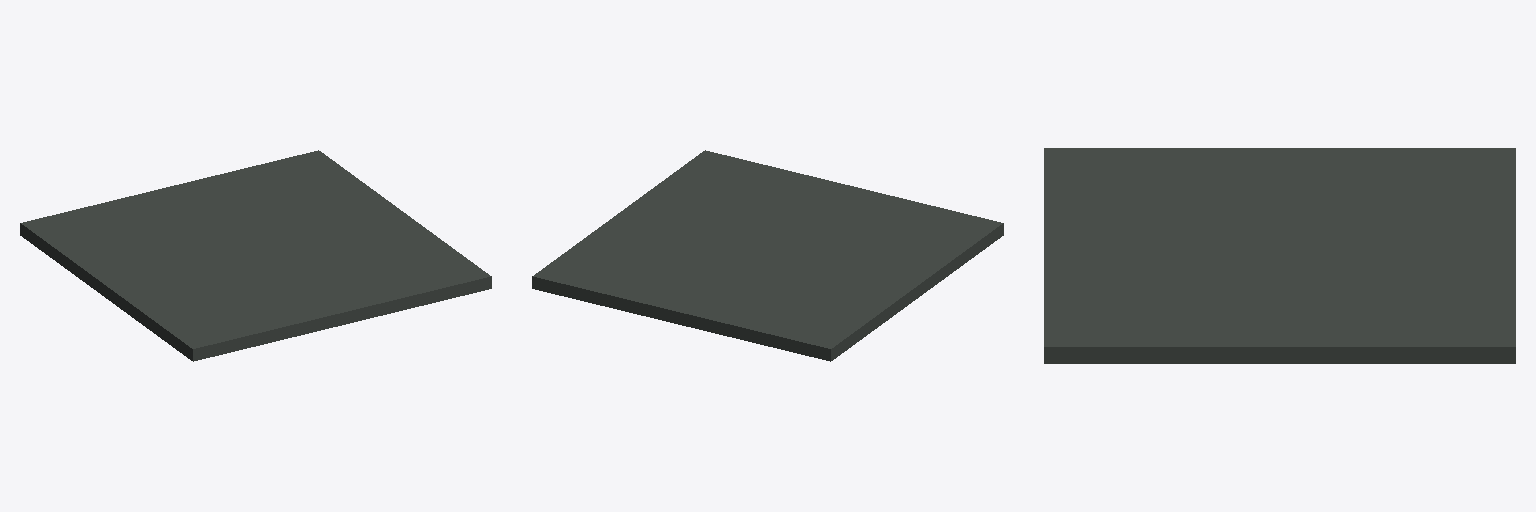
robot.urdf — ground_skeleton:
<?xml version="1.0"?>
<robot name="ground_skeleton">
    <material name="blue">
        <color rgba="0 0 0.8 1"/>
    </material>
    <material name="white">
        <color rgba="1 1 1 1"/>
    </material>
    <material name="greygreen">
        <color rgba="0.324 0.346 0.330 1"/>
    </material>
    <link name="world" />
    <link name="world_frame">
        <inertial>
            <mass value="0.000000001" />
            <origin xyz="0 0 0" rpy="0 0 0" />
            <inertia ixx="0.000000001" ixy="0.000000001" ixz="0.000000001" iyy="1.0" iyz="0" izz="1.0" />
        </inertial>
    </link>
    <link name="ground">
         <collision>
            <origin xyz= "0 0 0" rpy="0. 0 0" />
            <geometry>
                <box size="2.5 2.5 0.1" />
            </geometry>
        </collision>
         <visual name="visual">
            <origin xyz = "0 0 0" rpy="0. 0 0" />
            <geometry>
                <box size="2.5 2.5 0.1" />
            </geometry>
            <material name="greygreen"/>
        </visual>
        <inertial>
            <mass value="1.0" />
            <origin xyz="0 0 0" rpy="0 0 0" />
            <inertia ixx="1.0" ixy="0" ixz="0" iyy="1.0" iyz="0" izz="1.0" />
        </inertial>
    </link>
    <link name="ground_link">
         <collision>
            <origin xyz= "-0.0 -0.0 -0.9" rpy="0. -0.00 -0.5236" />
            <geometry>
        	    <mesh filename="meshes/hexa_column3.obj"/>
      	    </geometry>
        </collision>
         <visual name="visual">
            <origin xyz = "-0.0 -0.0 -0.9" rpy="0. -0.00  -0.5236" />
            <geometry>
        	    <mesh filename="meshes/hexa_column3.obj"/>
            </geometry>
        </visual>
        <inertial>
            <mass value="1.0" />
            <origin xyz="0 0 0" rpy="0 0 0" />
            <inertia ixx="1.0" ixy="0" ixz="0" iyy="1.0" iyz="0" izz="1.0" />
        </inertial>
    </link>
    <joint name="ground_joint" type="fixed">
        <origin xyz="-0.33 0.0 0.0" rpy="0. 0. 0." />
        <parent link="world" />
        <child link="ground_link" />
    </joint>
    <joint name="frame_joint" type="fixed">
        <origin xyz="0 0 0" rpy="0 0 0" />
        <parent link="world" />
        <child link="world_frame" />
    </joint>
    <joint name="ground_flat_joint" type="fixed">
        <origin xyz="0.0 0.0 0.0" rpy="0 0.0 0.0" />
        <parent link="world" />
        <child link="ground" />
    </joint>
</robot>

--- Render facts (derived) ---
The picture shows the robot from 3 angles, left to right: view 1: azimuth 30°, elevation 25°; view 2: azimuth 150°, elevation 25°; view 3: azimuth 270°, elevation 25°; orthographic projection.
Robot: ground_skeleton — 4 links, 3 joints (3 fixed); root link world; default pose: every joint at zero.
Links seen in each view (by area): view 1: ground; view 2: ground; view 3: ground.
Boxes of the visible links, bbox=[...] form: ground: bbox=[20, 150, 491, 361]; ground: bbox=[532, 150, 1003, 361]; ground: bbox=[1044, 148, 1515, 363].
Size in the robot's own frame: 2.5 by 2.5 by 0.1 metres.
0 mesh visuals loaded from 1 distinct referenced files (none loaded); not drawn: 1 (reference not matched to a file when rendering).